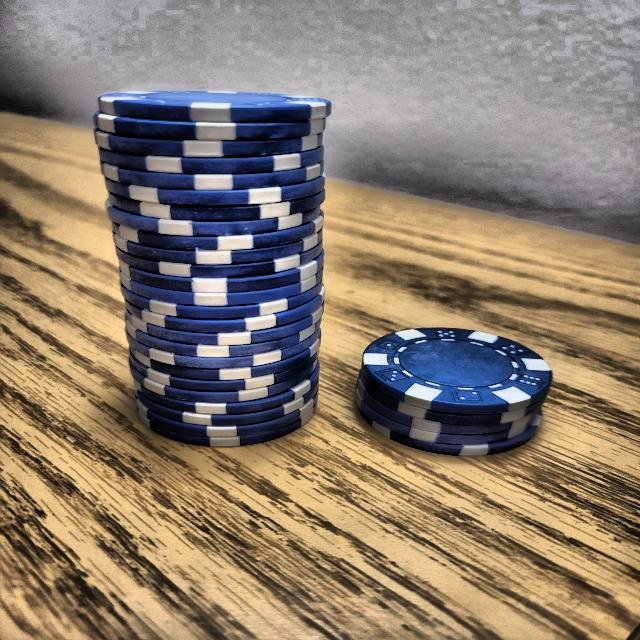Chip: (70, 69, 358, 471), (344, 304, 553, 476)
